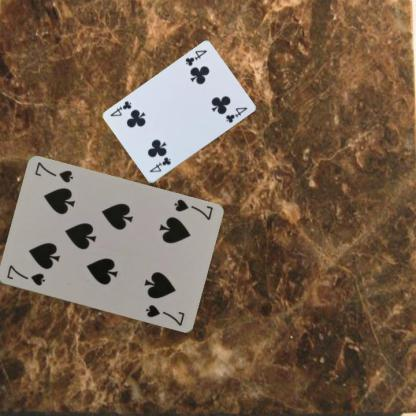4c: (183, 48, 208, 68), (147, 155, 172, 174)
7s: (171, 196, 214, 222), (4, 262, 46, 287)
